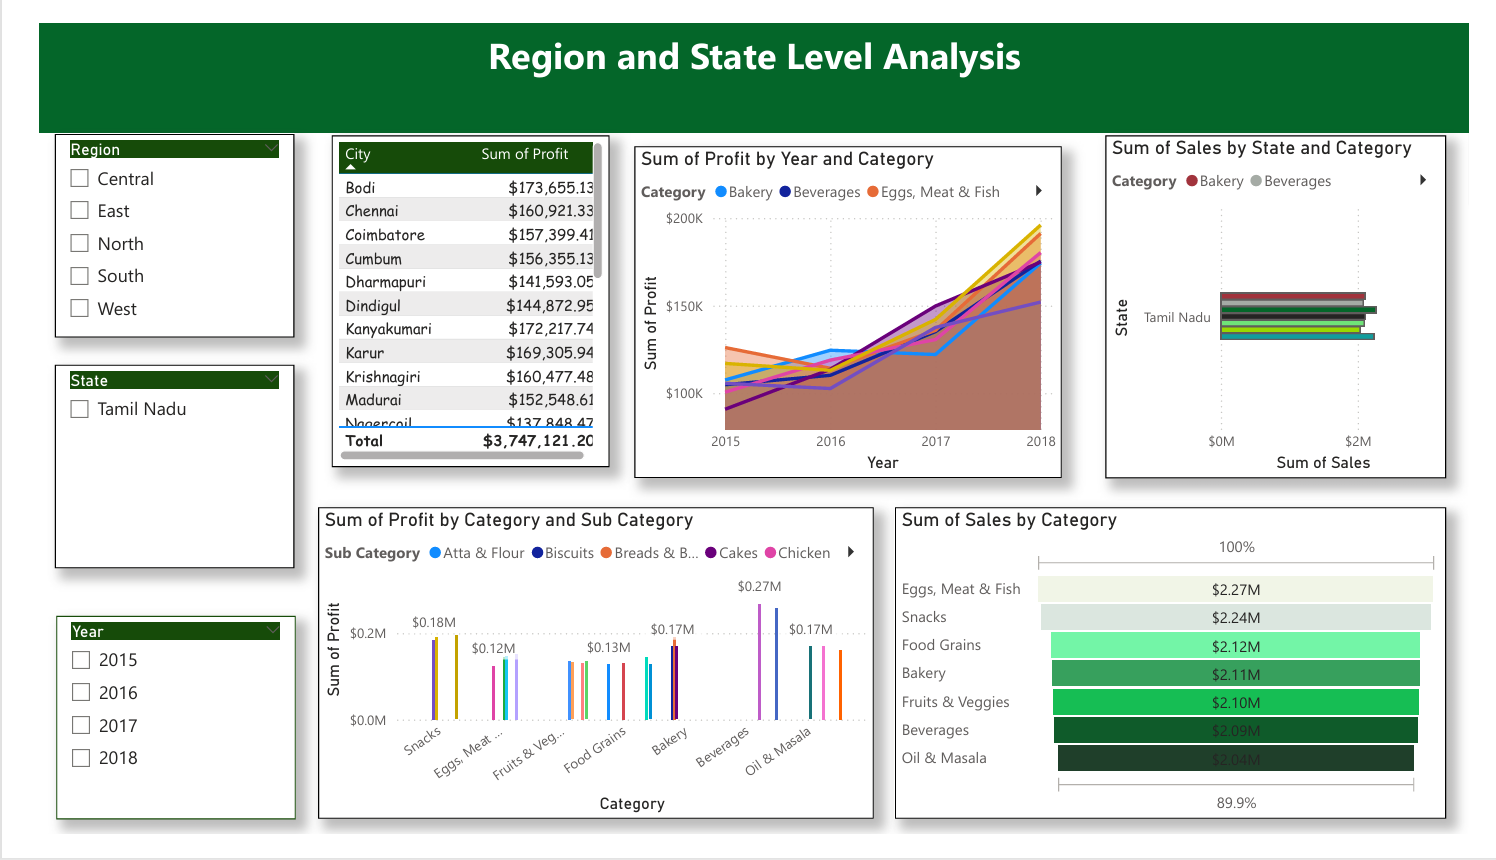

Layout of this report page (visuals, bound fields, positions):
{"tool":"powerbi","page":{"name":"Region and State","canvas":[1280,720],"ordinal":1},"visuals":[{"type":"textbox","box":[9.6,0,1270.7,97.4],"z":0},{"type":"slicer","fields":{"Values":["Supermart Grocery Sales - Retai.Region"]},"box":[23.3,97.4,212.7,181.1],"z":2000},{"type":"slicer","fields":{"Values":["Supermart Grocery Sales - Retai.State"]},"box":[23.3,303.3,212.7,181.1],"z":3000},{"type":"slicer","fields":{"Values":["Supermart Grocery Sales - Retai.Year"]},"box":[24.7,525.6,212.7,181.1],"z":4000},{"type":"tableEx","fields":{"Values":["Supermart Grocery Sales - Retai.City","Sum(Supermart Grocery Sales - Retai.Profit)"]},"box":[269,98.8,247,295],"z":5000},{"type":"clusteredBarChart","fields":{"Category":["Supermart Grocery Sales - Retai.State"],"Y":["Sum(Supermart Grocery Sales - Retai.Sales)"],"Series":["Supermart Grocery Sales - Retai.Category"]},"box":[956.4,98.8,303.3,304.6],"z":6000},{"type":"areaChart","fields":{"Category":["Supermart Grocery Sales - Retai.Year"],"Series":["Supermart Grocery Sales - Retai.Category"],"Y":["Sum(Supermart Grocery Sales - Retai.Profit)"]},"box":[537.9,108.4,380.1,295],"z":7000},{"type":"lineClusteredColumnComboChart","fields":{"Y":["Sum(Supermart Grocery Sales - Retai.Profit)"],"Category":["Supermart Grocery Sales - Retai.Category"],"Series":["Supermart Grocery Sales - Retai.Sub Category"]},"box":[256.6,429.5,494,277.2],"z":8000},{"type":"funnel","fields":{"Category":["Supermart Grocery Sales - Retai.Category"],"Y":["Sum(Supermart Grocery Sales - Retai.Sales)"]},"box":[769.8,429.5,489.9,277.2],"z":9000}]}

Visuals, with their boxes in screenshot pixels (x1, y1, x2, y2), scaled from the page's 1280x720 canvas onto the 1496x860 screenshot:
textbox: bbox(11, 0, 1495, 116)
slicer - Supermart Grocery Sales - Retai.Region: bbox(27, 116, 276, 333)
slicer - Supermart Grocery Sales - Retai.State: bbox(27, 362, 276, 579)
slicer - Supermart Grocery Sales - Retai.Year: bbox(29, 628, 277, 844)
tableEx - Supermart Grocery Sales - Retai.City x Sum(Supermart Grocery Sales - Retai.Profit): bbox(314, 118, 603, 470)
clusteredBarChart - Supermart Grocery Sales - Retai.State x Sum(Supermart Grocery Sales - Retai.Sales): bbox(1118, 118, 1472, 482)
areaChart - Supermart Grocery Sales - Retai.Year x Supermart Grocery Sales - Retai.Category: bbox(629, 129, 1073, 482)
lineClusteredColumnComboChart - Sum(Supermart Grocery Sales - Retai.Profit) x Supermart Grocery Sales - Retai.Category: bbox(300, 513, 877, 844)
funnel - Supermart Grocery Sales - Retai.Category x Sum(Supermart Grocery Sales - Retai.Sales): bbox(900, 513, 1472, 844)
